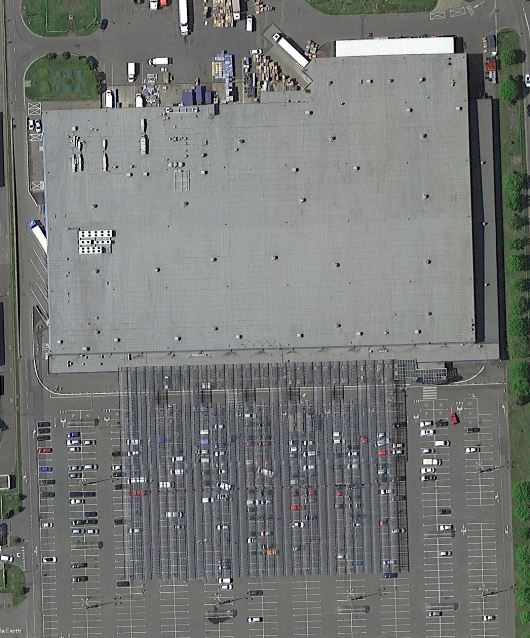shopping_center: (29, 33, 497, 385)
